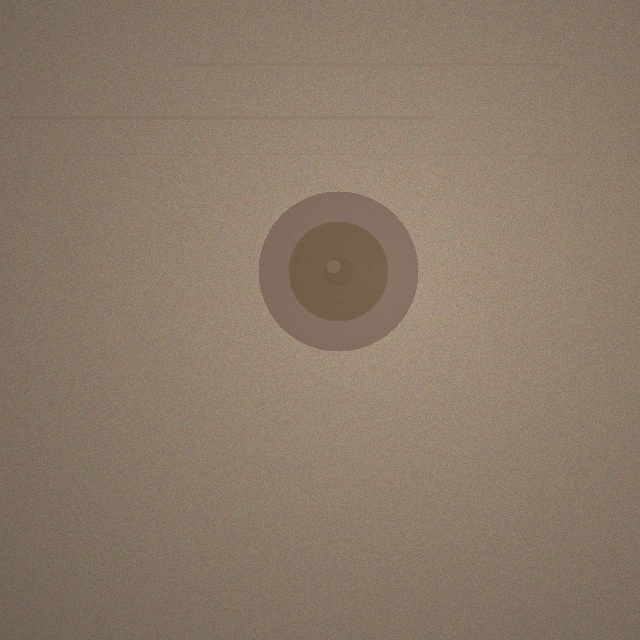good: (258, 191, 418, 351)
